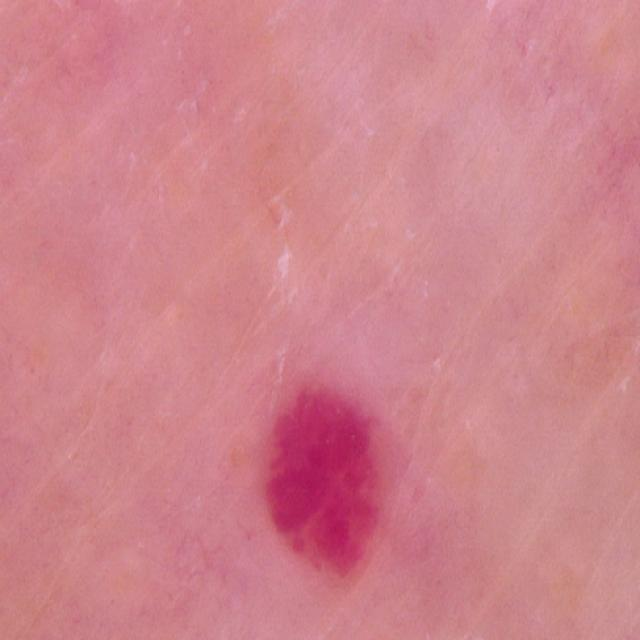Vascular Lesions: (241, 364, 436, 640)
